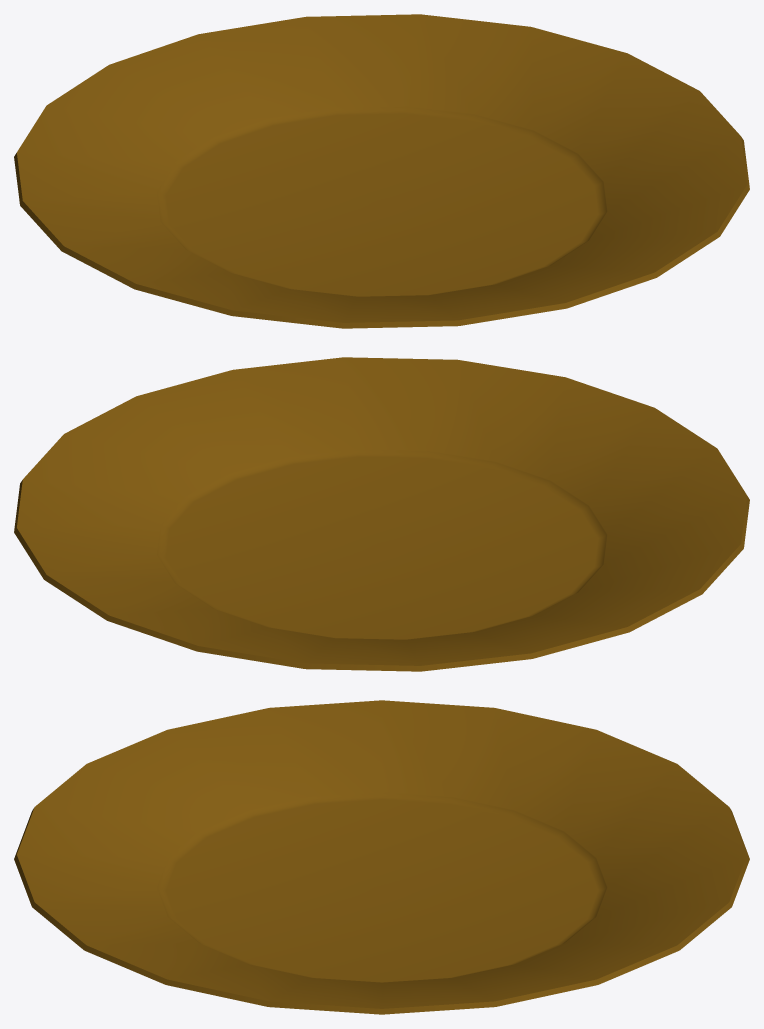
File: K_Dish.fbx
The picture shows the model from 3 angles, top to bottom: view 1: azimuth 30°, elevation 25°; view 2: azimuth 150°, elevation 25°; view 3: azimuth 270°, elevation 25°; orthographic projection.
Visible parts, largest first — view 1: Plato 21; view 2: Plato 21; view 3: Plato 21.
Boxes of the visible parts, left/top/right/bottom form: Plato 21: left=14, top=14, right=749, bottom=328; Plato 21: left=14, top=357, right=749, bottom=671; Plato 21: left=14, top=700, right=749, bottom=1014.
Size of the model in its own units: 13.48 by 13.48 by 1.13.
